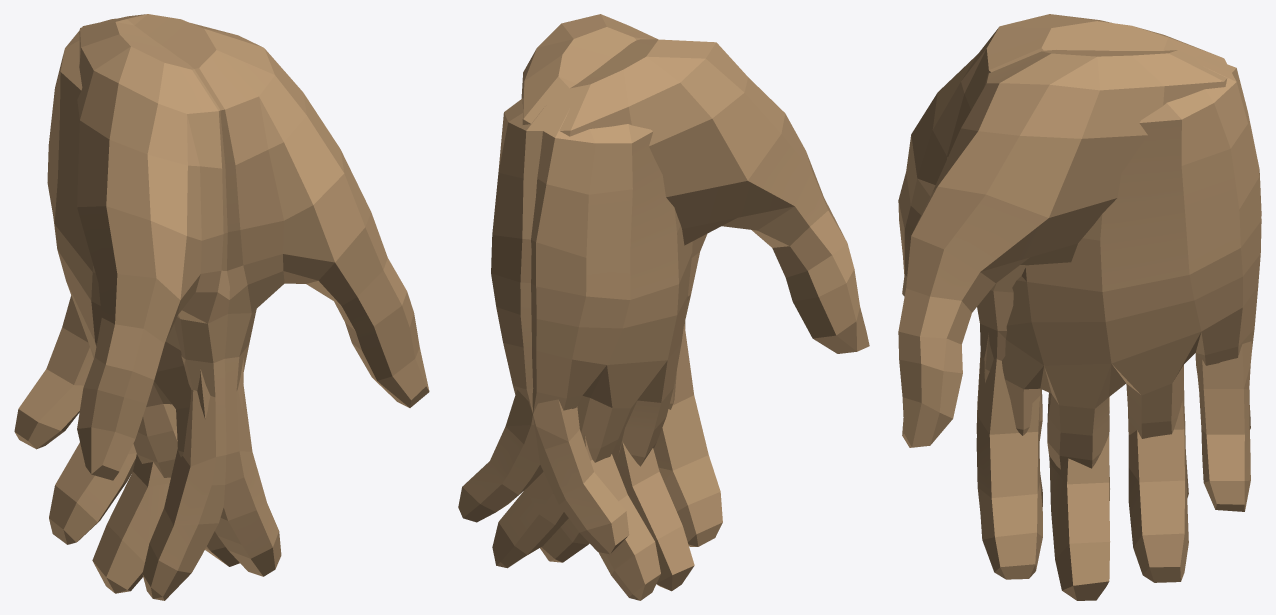
Rendered from Hands.001_0.glb.
3 views of the same model, side by side, from view 1: azimuth 30°, elevation 25°; view 2: azimuth 150°, elevation 25°; view 3: azimuth 270°, elevation 25° (orthographic).
Parts seen in each view (by area): view 1: Hands.001_0; view 2: Hands.001_0; view 3: Hands.001_0.
Boxes of the visible parts, x1=… form: Hands.001_0: x1=14, y1=14, x2=429, y2=600; Hands.001_0: x1=458, y1=14, x2=869, y2=600; Hands.001_0: x1=898, y1=14, x2=1261, y2=600.
Size of the model in its own units: 0.2469 by 0.3713 by 0.2298.
1 material, 1 textured.
